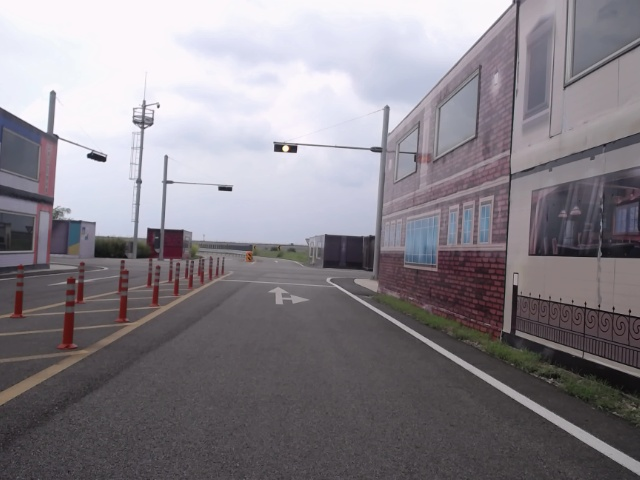orange_3: (274, 143, 296, 153)
